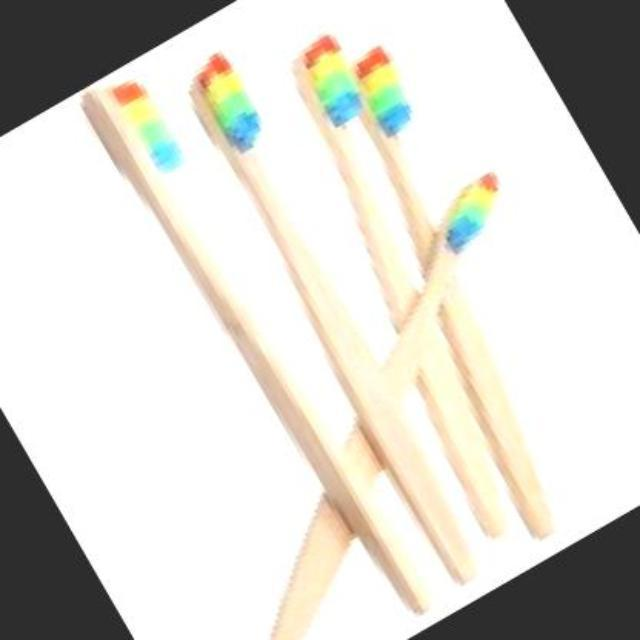toothbrush: (90, 64, 452, 630)
